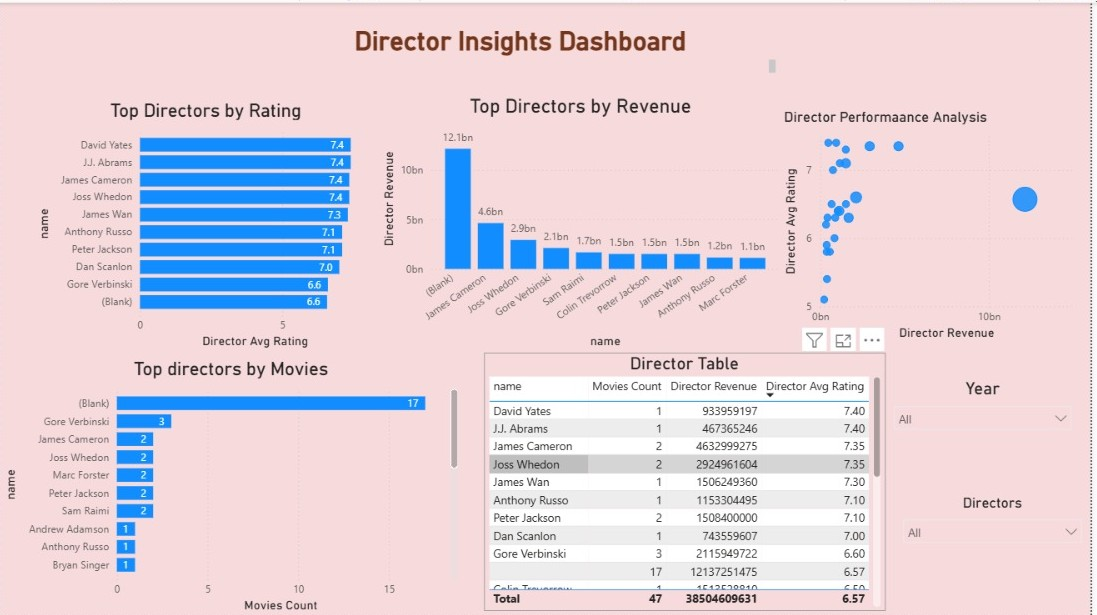

The page's visual inventory and layout, read from the dashboard file:
{"tool":"powerbi","page":{"name":"Director Insights","canvas":[1280,720],"ordinal":1},"visuals":[{"type":"clusteredBarChart","title":"Top directors by Movies","fields":{"Category":["directors.name"],"Y":["directors.Movies Count"]},"box":[0,417,542.9,303.3],"z":0},{"type":"clusteredColumnChart","title":"Top Directors by Revenue","fields":{"Category":["directors.name"],"Y":["directors.Director Revenue"]},"box":[444.4,108.2,476.1,303],"z":1},{"type":"barChart","title":"Top Directors by Rating","fields":{"Category":["directors.name"],"Y":["directors.Director Avg Rating"]},"box":[39,114,405.4,297.2],"z":2},{"type":"tableEx","title":"Director Table","fields":{"Values":["directors.name","directors.Movies Count","directors.Director Revenue","directors.Director Avg Rating"]},"box":[568.6,410.9,470.8,303.3],"z":3},{"type":"slicer","title":"Directors","fields":{"Values":["directors.name"]},"box":[1050.4,577.2,229.9,66],"z":4},{"type":"slicer","title":"Year","fields":{"Values":["movies.release_date.Variation.Date Hierarchy.Year"]},"box":[1039.4,440.2,228.7,62.4],"z":5},{"type":"scatterChart","title":"Director Performaance Analysis","fields":{"Category":["directors.name"],"Size":["directors.Movies Count"],"X":["directors.Director Revenue"],"Y":["directors.Director Avg Rating"]},"box":[916.2,124.1,363.6,277],"z":6},{"type":"textbox","title":"Director Insights Dashboard","box":[307.3,27.4,608.8,60.6],"z":7}]}

Visuals, with their boxes in screenshot pixels (x1, y1, x2, y2), scaled from the page's 1280x720 canvas onto the 1097x615 screenshot:
"Top directors by Movies" clusteredBarChart: [0, 356, 465, 614]
"Top Directors by Revenue" clusteredColumnChart: [381, 92, 789, 351]
"Top Directors by Rating" barChart: [33, 97, 381, 351]
"Director Table" tableEx: [487, 351, 891, 610]
"Directors" slicer: [900, 493, 1096, 549]
"Year" slicer: [891, 376, 1087, 429]
"Director Performaance Analysis" scatterChart: [785, 106, 1096, 343]
"Director Insights Dashboard" textbox: [263, 23, 785, 75]
